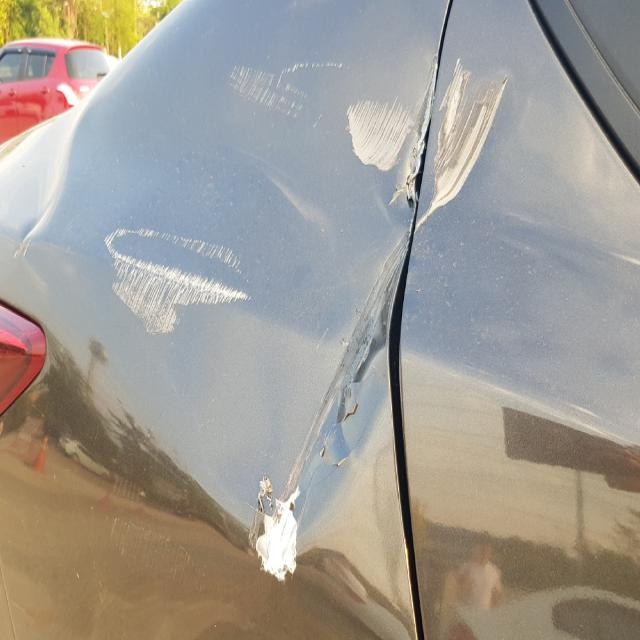Dechirure: (405, 54, 439, 210)
Rayure: (96, 203, 248, 356), (411, 57, 518, 256), (215, 38, 351, 145), (346, 78, 410, 176)
